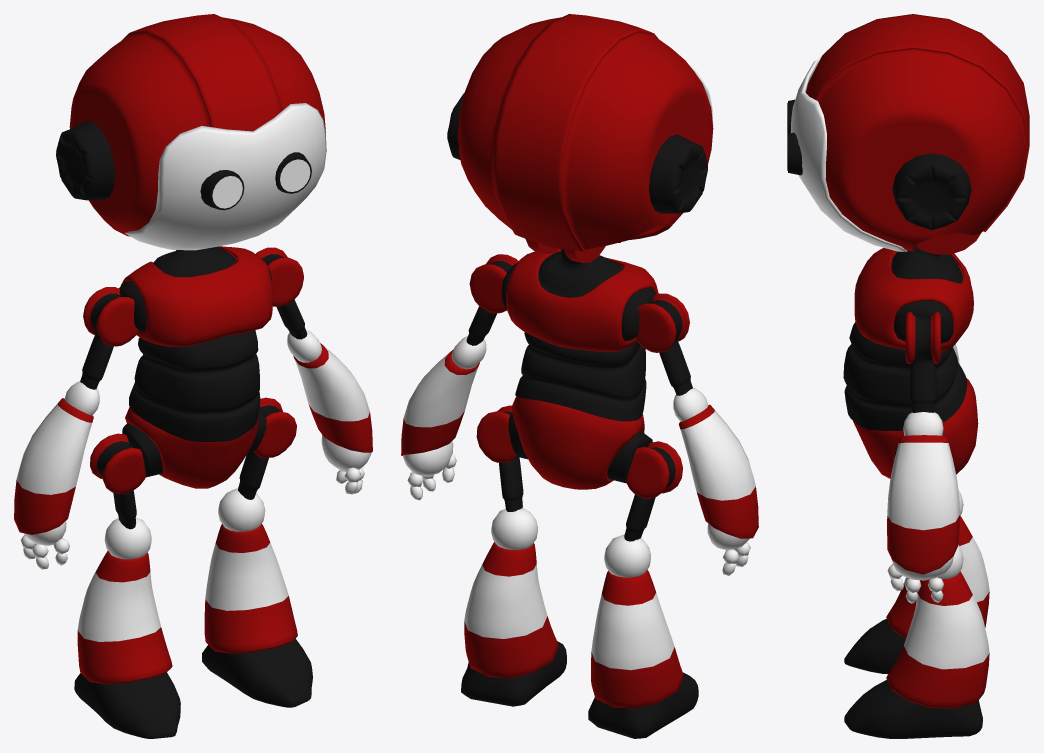
The model's file is Clink.fbx.
3 renders of one model, left to right at view 1: azimuth 30°, elevation 25°; view 2: azimuth 150°, elevation 25°; view 3: azimuth 270°, elevation 25°, orthographic.
Visible parts, largest first — view 1: Cabeza, Cara, Tronco, Pecho, PiernaDer, PiernaIzq, BrazoDer, BrazoIzq, PieIzq, PieDer, Pelvis, OrejaDer (+13 smaller); view 2: Cabeza, Pecho, PiernaDer, PiernaIzq, Tronco, Pelvis, BrazoDer, BrazoIzq, OrejaDer, HombroDer, CaderaDer, PieDer (+11 smaller); view 3: Cabeza, PiernaIzq, BrazoIzq, Pecho, Tronco, PieIzq, OrejaIzq, Cara, Pelvis, HombroIzq, PiernaDer, PieDer (+5 smaller).
Boxes of the visible parts, x1=… form: Cabeza: x1=69, y1=14, x2=325, y2=236; Cara: x1=125, y1=103, x2=326, y2=250; Tronco: x1=129, y1=330, x2=260, y2=441; Pecho: x1=120, y1=246, x2=273, y2=346; PiernaDer: x1=77, y1=550, x2=172, y2=684; PiernaIzq: x1=204, y1=524, x2=297, y2=653; BrazoDer: x1=14, y1=398, x2=93, y2=534; BrazoIzq: x1=293, y1=343, x2=372, y2=452; PieIzq: x1=202, y1=638, x2=312, y2=707; PieDer: x1=74, y1=672, x2=180, y2=738; Pelvis: x1=125, y1=407, x2=258, y2=488; OrejaDer: x1=56, y1=120, x2=115, y2=200; Cabeza: x1=457, y1=14, x2=713, y2=251; Pecho: x1=506, y1=248, x2=658, y2=351; PiernaDer: x1=591, y1=569, x2=683, y2=708; PiernaIzq: x1=464, y1=542, x2=558, y2=678; Tronco: x1=515, y1=332, x2=646, y2=421; Pelvis: x1=511, y1=396, x2=644, y2=489; BrazoDer: x1=679, y1=404, x2=758, y2=538; BrazoIzq: x1=401, y1=349, x2=479, y2=455; OrejaDer: x1=649, y1=134, x2=707, y2=213; HombroDer: x1=634, y1=293, x2=692, y2=395; CaderaDer: x1=624, y1=441, x2=682, y2=541; PieDer: x1=588, y1=672, x2=698, y2=738; Cabeza: x1=806, y1=14, x2=1029, y2=251; PiernaIzq: x1=886, y1=571, x2=989, y2=708; BrazoIzq: x1=887, y1=435, x2=959, y2=574; Pecho: x1=854, y1=246, x2=973, y2=351; Tronco: x1=843, y1=322, x2=967, y2=430; PieIzq: x1=844, y1=680, x2=982, y2=738; OrejaIzq: x1=892, y1=153, x2=971, y2=229; Cara: x1=790, y1=56, x2=907, y2=251; Pelvis: x1=853, y1=378, x2=978, y2=478; HombroIzq: x1=905, y1=311, x2=940, y2=412; PiernaDer: x1=886, y1=516, x2=989, y2=638; PieDer: x1=844, y1=618, x2=905, y2=674.
Size of the model in its own units: 19.98 by 36.92 by 12.13.
